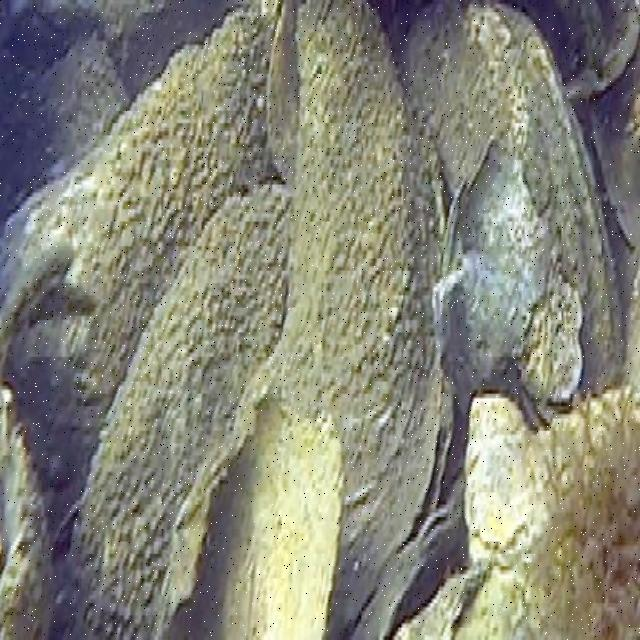Oyster-Closed: (0, 0, 287, 533), (58, 190, 297, 638), (467, 0, 626, 395), (469, 391, 638, 561)
Oyster-Open: (246, 0, 454, 633)
